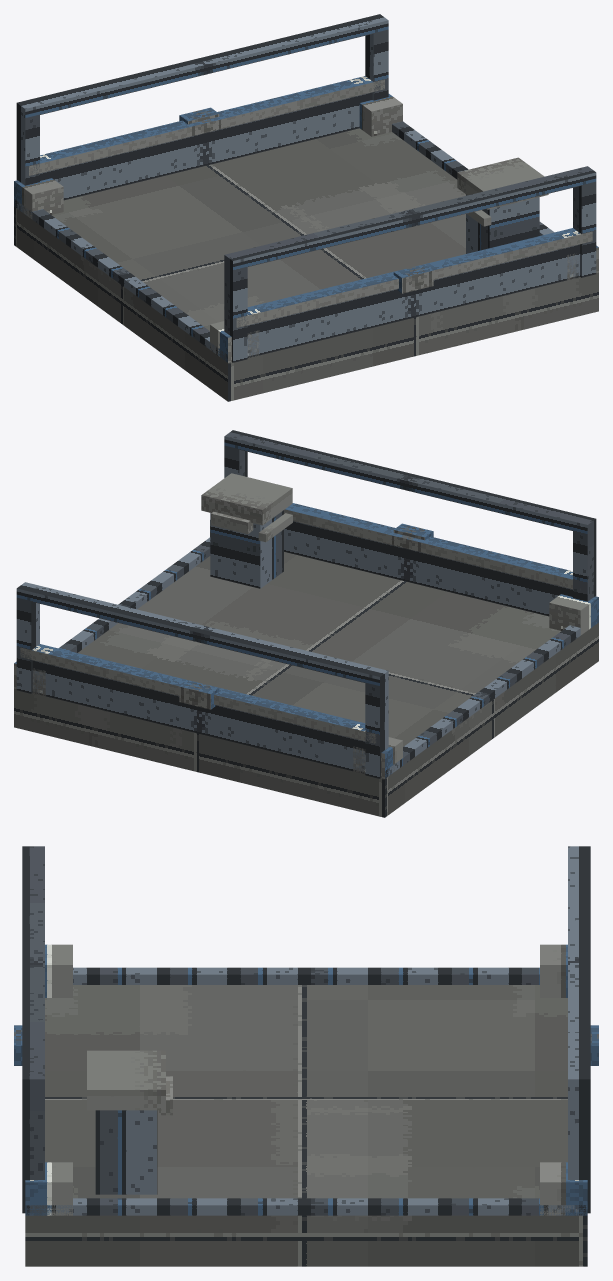
File: sp_skiff_deck.glb
The picture shows the model from 3 angles, top to bottom: view 1: azimuth 30°, elevation 25°; view 2: azimuth 150°, elevation 25°; view 3: azimuth 270°, elevation 25°; orthographic projection. The views are drawn at different scales.
Visible parts, largest first — view 1: skiff_deck, skiff_end_fore, skiff_end_aft, skiff_cap_fore, skiff_cap_aft, skiff_band_aft, skiff_band_fore, skiff_curb_-1, console, skiff_post_fore-1, console_head, skiff_post_aft-1 (+7 smaller); view 2: skiff_deck, skiff_end_aft, skiff_end_fore, skiff_cap_aft, skiff_cap_fore, skiff_band_aft, skiff_band_fore, console, skiff_curb_-1, console_head, skiff_curb_1, skiff_post_aft-1 (+7 smaller); view 3: skiff_deck, skiff_curb_1, skiff_curb_-1, console, skiff_cap_fore, skiff_cap_aft, console_head, skiff_post_fore1, skiff_post_aft1, skiff_bumper_11, skiff_bumper_1-1, skiff_bumper_-1-1 (+1 smaller).
Part boxes in pixels (x1,y1,x2,y2): skiff_deck: (14,128,598,401); skiff_end_fore: (247,244,580,357); skiff_end_aft: (40,92,372,200); skiff_cap_fore: (226,166,595,270); skiff_cap_aft: (21,14,387,117); skiff_band_aft: (29,76,384,175); skiff_band_fore: (236,228,592,327); skiff_curb_-1: (14,199,227,362); console: (466,194,539,253); skiff_post_fore-1: (224,251,247,362); console_head: (457,157,548,209); skiff_post_aft-1: (16,100,39,185); skiff_deck: (14,552,598,817); skiff_end_aft: (32,660,365,773); skiff_end_fore: (284,521,572,616); skiff_cap_aft: (17,582,385,686); skiff_cap_fore: (225,430,588,531); skiff_band_aft: (20,644,375,743); skiff_band_fore: (284,503,580,589); console: (210,510,283,588); skiff_curb_-1: (385,625,580,778); console_head: (201,473,292,525); skiff_curb_1: (58,537,210,652); skiff_post_aft-1: (365,668,388,778); skiff_deck: (25,985,587,1266); skiff_curb_1: (26,1198,586,1215); skiff_curb_-1: (73,967,539,984); console: (95,1110,157,1194); skiff_cap_fore: (22,847,44,1078); skiff_cap_aft: (568,847,590,1078); console_head: (87,1050,165,1110); skiff_post_fore1: (22,1072,44,1213); skiff_post_aft1: (568,1073,590,1213); skiff_bumper_11: (540,1162,587,1215); skiff_bumper_1-1: (25,1162,72,1215); skiff_bumper_-1-1: (45,944,72,997).
Bounding box in the file's own units: 4 × 1.49 × 4.16.
3 materials, 3 textured.
